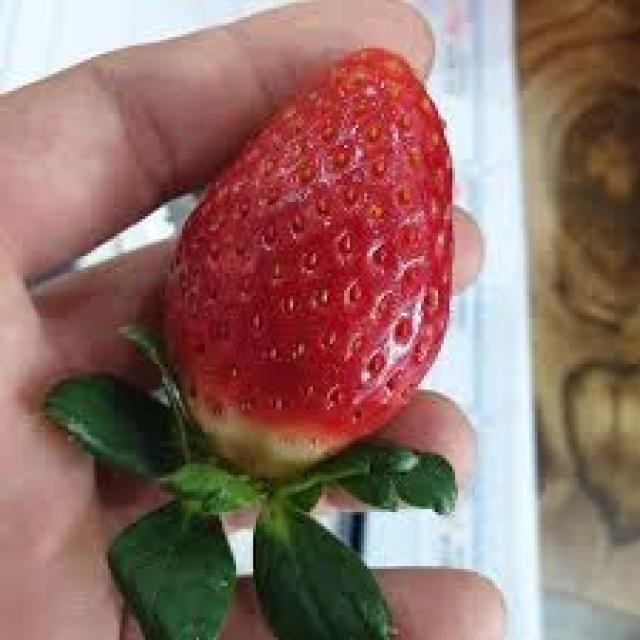mature: (162, 46, 458, 483)
